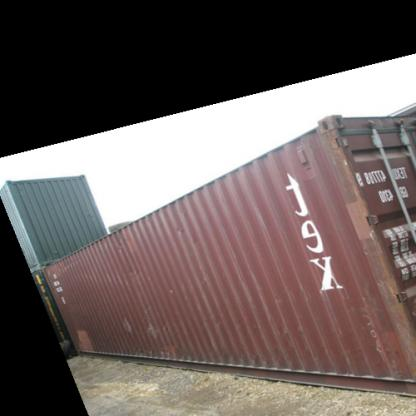Damage: (348, 274, 415, 387), (318, 114, 357, 175), (253, 199, 280, 239), (271, 320, 305, 346), (113, 306, 135, 336), (142, 312, 171, 334), (126, 342, 174, 354), (171, 215, 191, 241), (51, 256, 85, 271), (188, 311, 226, 324), (125, 257, 149, 277), (105, 230, 126, 247), (268, 283, 284, 305)
